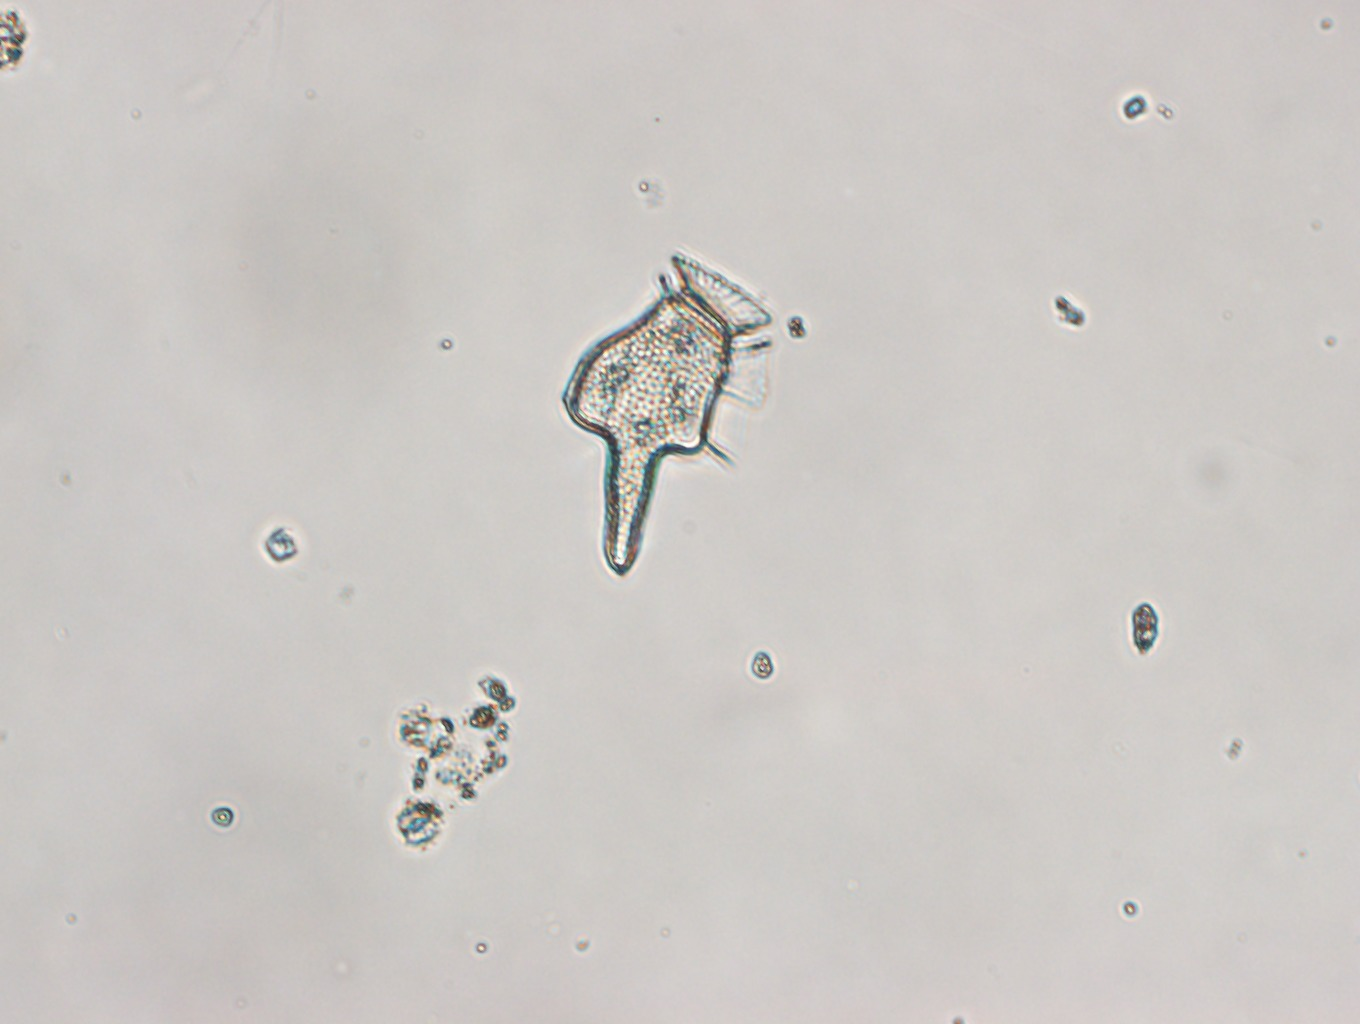dinophysis caudata: (562, 248, 775, 577)
